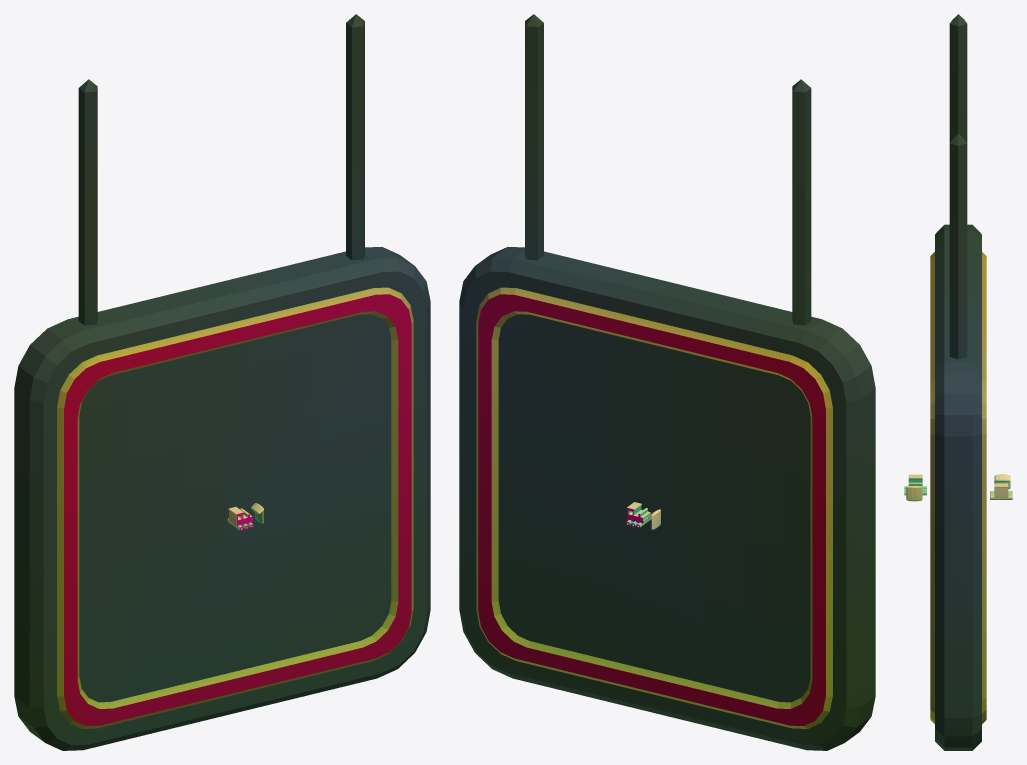
File: GS_PlatformSign.fbx
The picture shows the model from 3 angles, left to right: view 1: azimuth 30°, elevation 25°; view 2: azimuth 150°, elevation 25°; view 3: azimuth 270°, elevation 25°; orthographic projection. The views are drawn at different scales.
Parts seen in each view (by area): view 1: GS_PlatformSign; view 2: GS_PlatformSign; view 3: GS_PlatformSign, Sign_Platform_Back_Icon, Sign_Platform_Icon, Sign_Platform_Text.
Boxes of the visible parts, box(x1,y1,x2,y2) form: GS_PlatformSign: box(14, 14, 430, 750); GS_PlatformSign: box(459, 14, 875, 750); GS_PlatformSign: box(930, 14, 986, 750); Sign_Platform_Back_Icon: box(990, 483, 1012, 499); Sign_Platform_Icon: box(904, 474, 926, 495); Sign_Platform_Text: box(906, 486, 922, 501).
Bounding box in the file's own units: 0.9 × 1.42 × 0.23.
